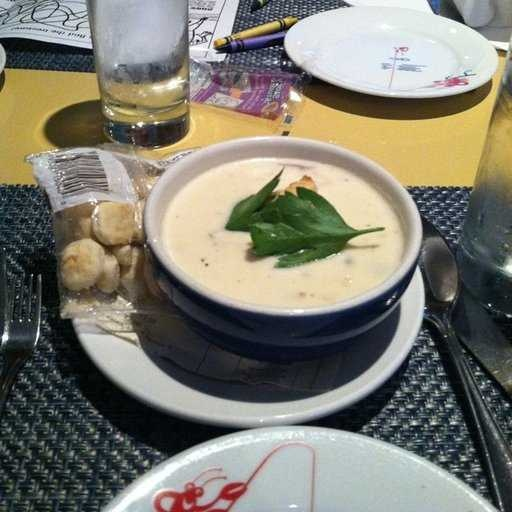soup: (170, 148, 388, 291)
